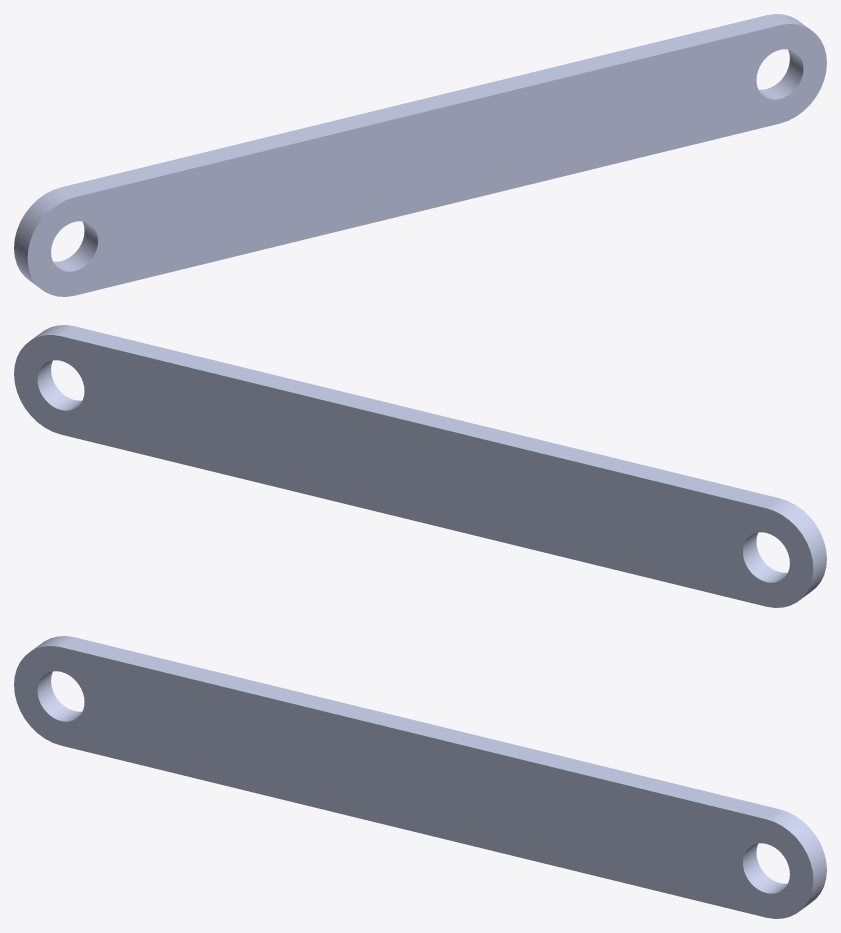
3 views of the same model, one above another, from view 1: azimuth 30°, elevation 25°; view 2: azimuth 150°, elevation 25°; view 3: azimuth 330°, elevation 25° (orthographic).
Parts seen in each view (by area): view 1: link2; view 2: link2; view 3: link2.
Boxes of the visible parts, <box> form: link2: <box>14,14,826,296</box>; link2: <box>14,325,826,607</box>; link2: <box>14,636,826,918</box>.
Bounding box in the file's own units: 0.17 × 0.02 × 0.005.
